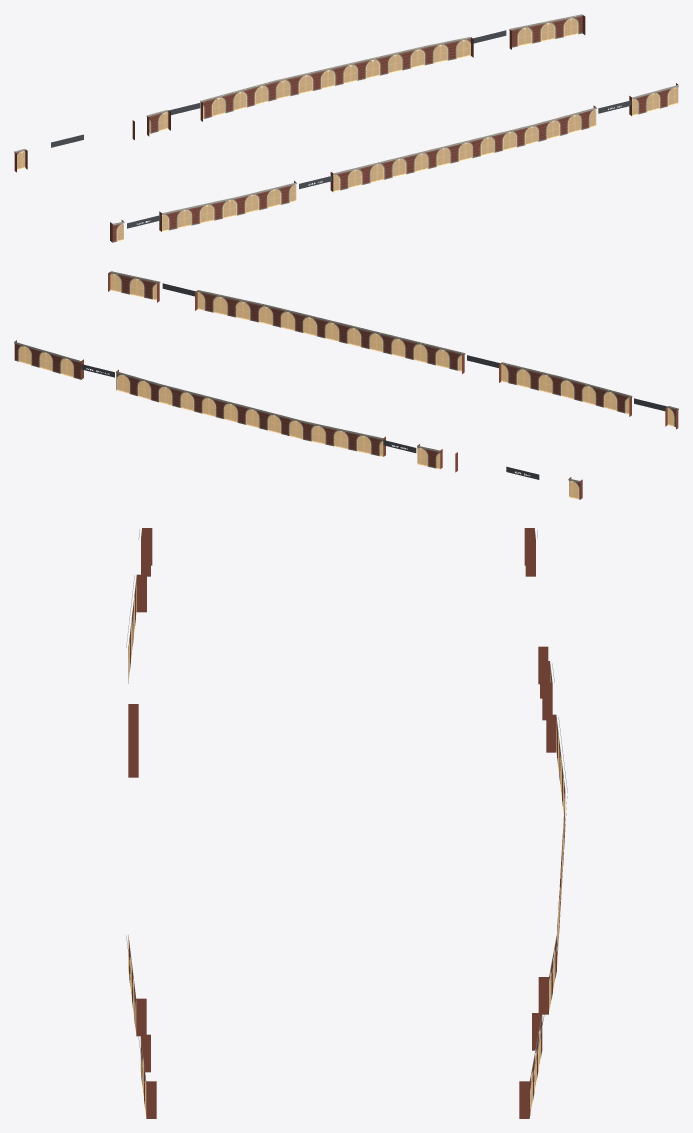
File: yurakucho_station.glb
3 views of the same model, one above another, from view 1: azimuth 30°, elevation 25°; view 2: azimuth 150°, elevation 25°; view 3: azimuth 270°, elevation 25° (orthographic). The views are drawn at different scales.
Parts seen in each view (by area): view 1: YR_Station; view 2: YR_Station; view 3: YR_Station.
Boxes of the visible parts, x1=… form: YR_Station: x1=14, y1=14, x2=678, y2=242; YR_Station: x1=14, y1=271, x2=678, y2=499; YR_Station: x1=126, y1=528, x2=567, y2=1118.
Bounding box in the file's own units: 154 × 4.9 × 52.
Materials: 5 (1 with a texture image).
